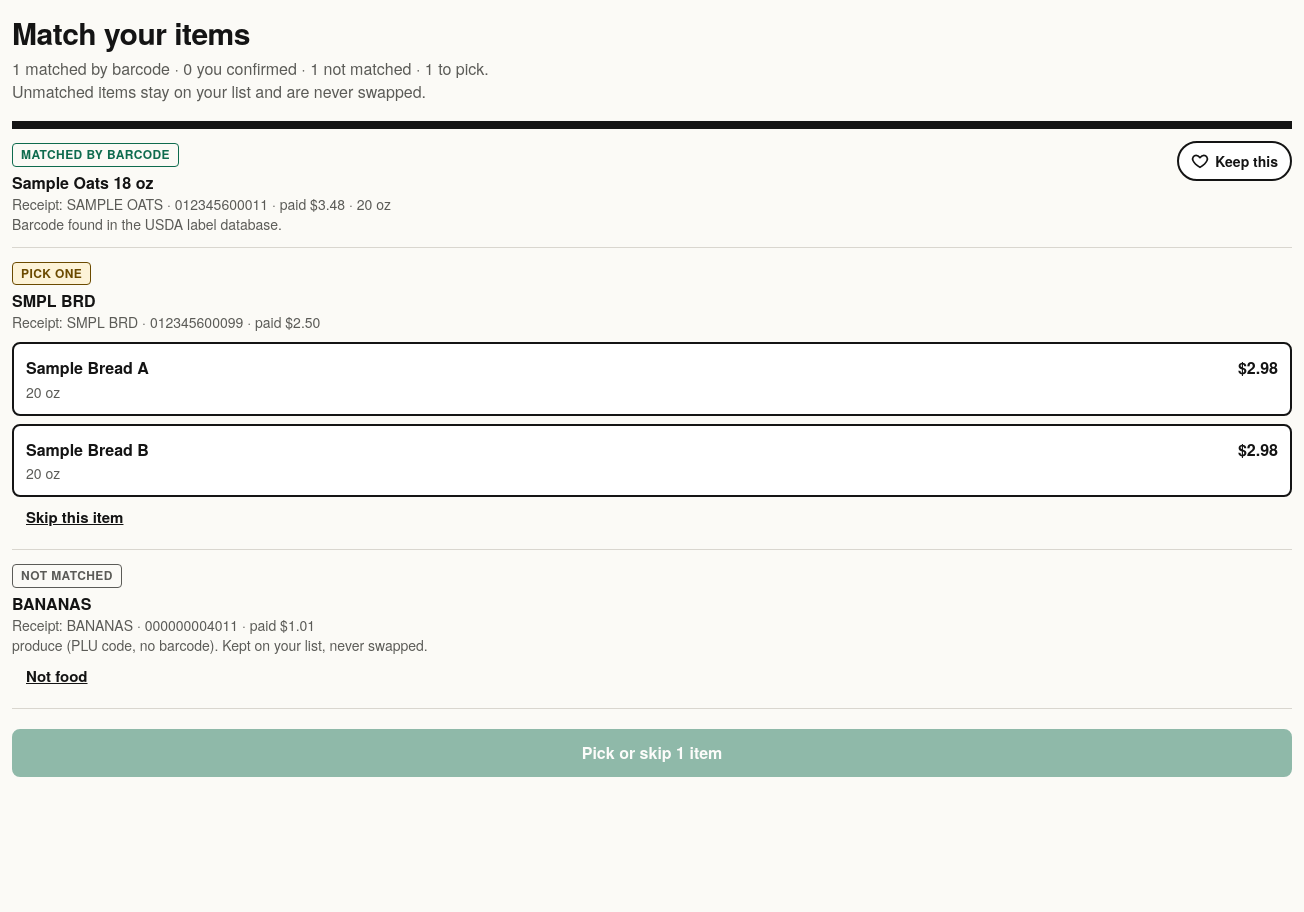
Test case: Match screen labels › Matched by barcode / Pick one / Not matched; never auto-picks; picking gives "You confirmed"
Expected: the text "Matched by barcode" is shown, top-left (12, 143), bottom-right (179, 167)
Expected: the text "Pick one" is shown, top-left (12, 262), bottom-right (91, 285)
Click the button "Sample Bread B $2.98 20 oz".
click(87, 449)  # box top-left (12, 424), bottom-right (1292, 497)
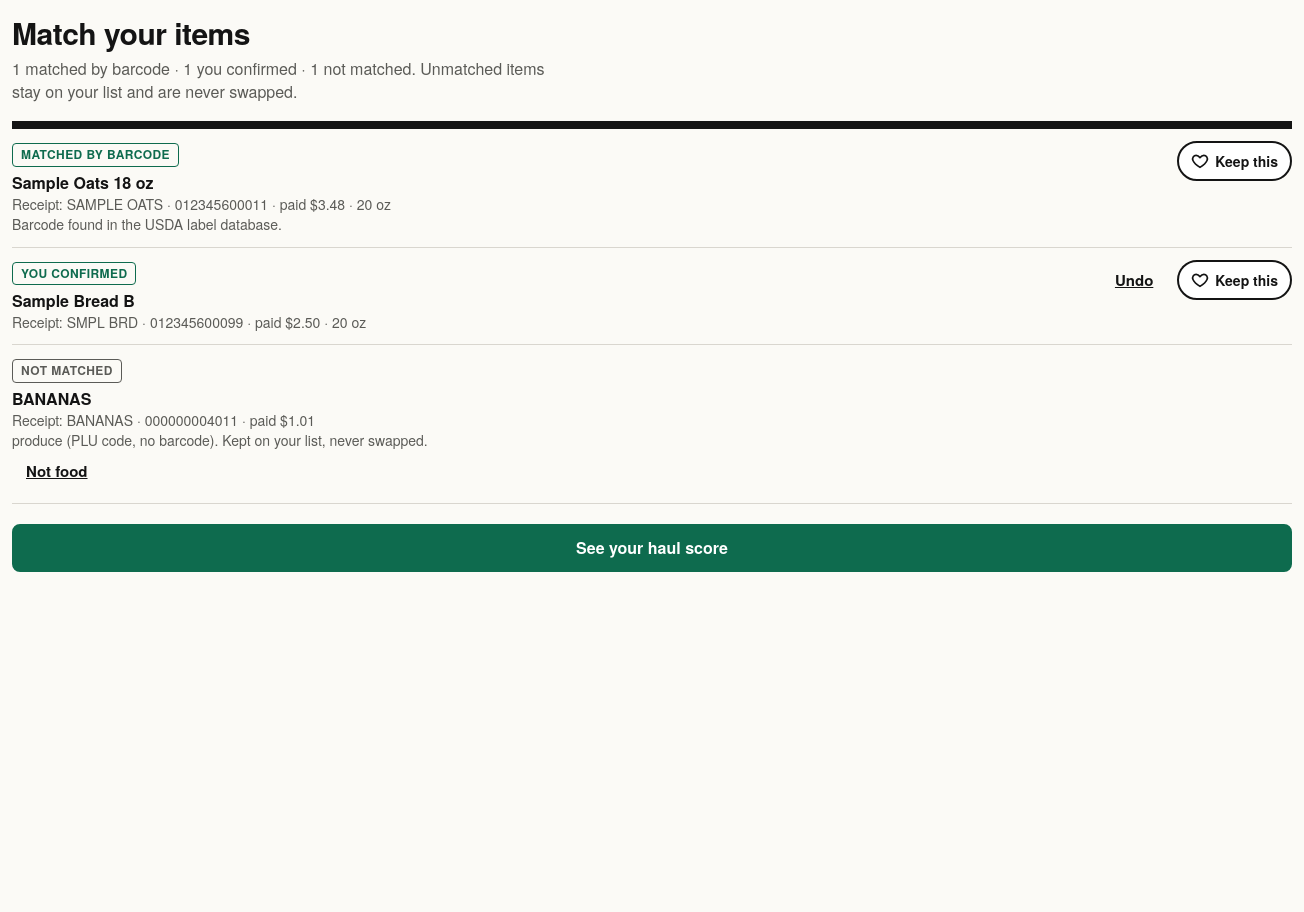
Expected: the text "You confirmed" is shown, top-left (12, 262), bottom-right (136, 285)
Expected: the button "See your haul score" is enabled, top-left (12, 524), bottom-right (1292, 572)
